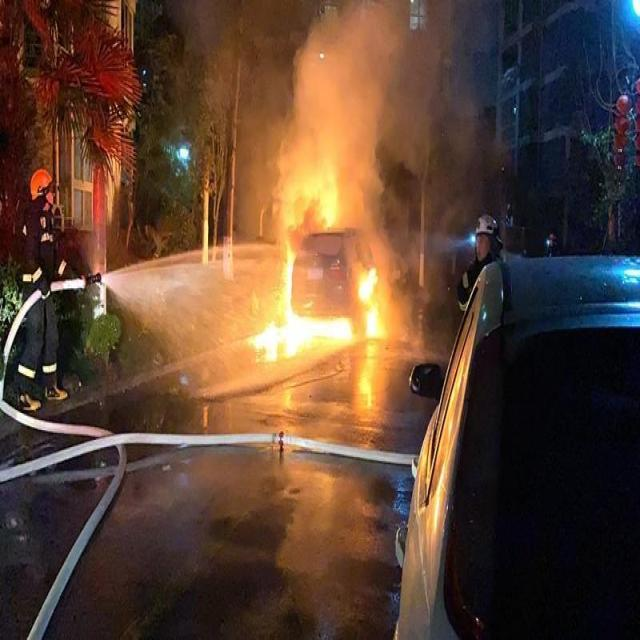Fire: (253, 316, 352, 360), (358, 266, 383, 338), (279, 248, 293, 314)
Smoke: (272, 0, 393, 234)
